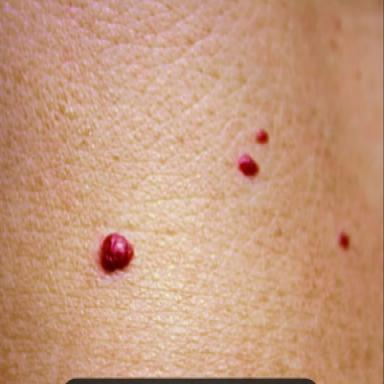Hemangiome: (101, 233, 133, 272), (239, 155, 259, 175), (257, 129, 269, 143)
